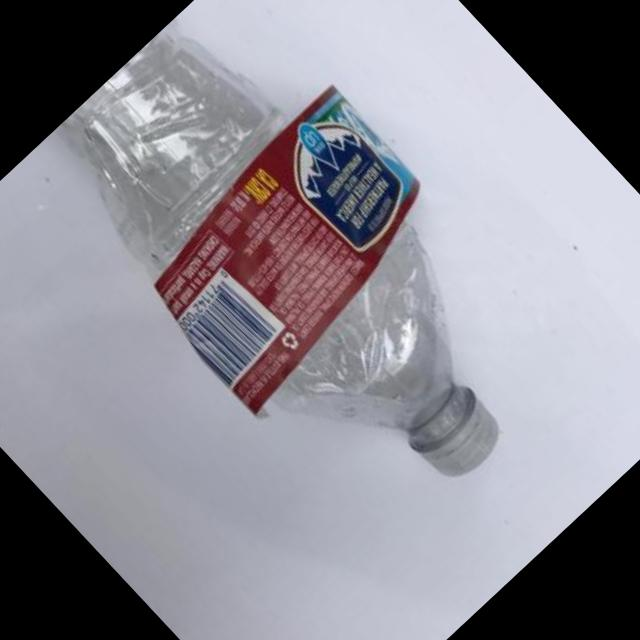BotolPlastik: (17, 0, 595, 558)
